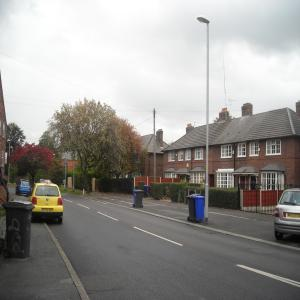Vehicle-registration-plate: (288, 214, 300, 219), (43, 209, 55, 212)
